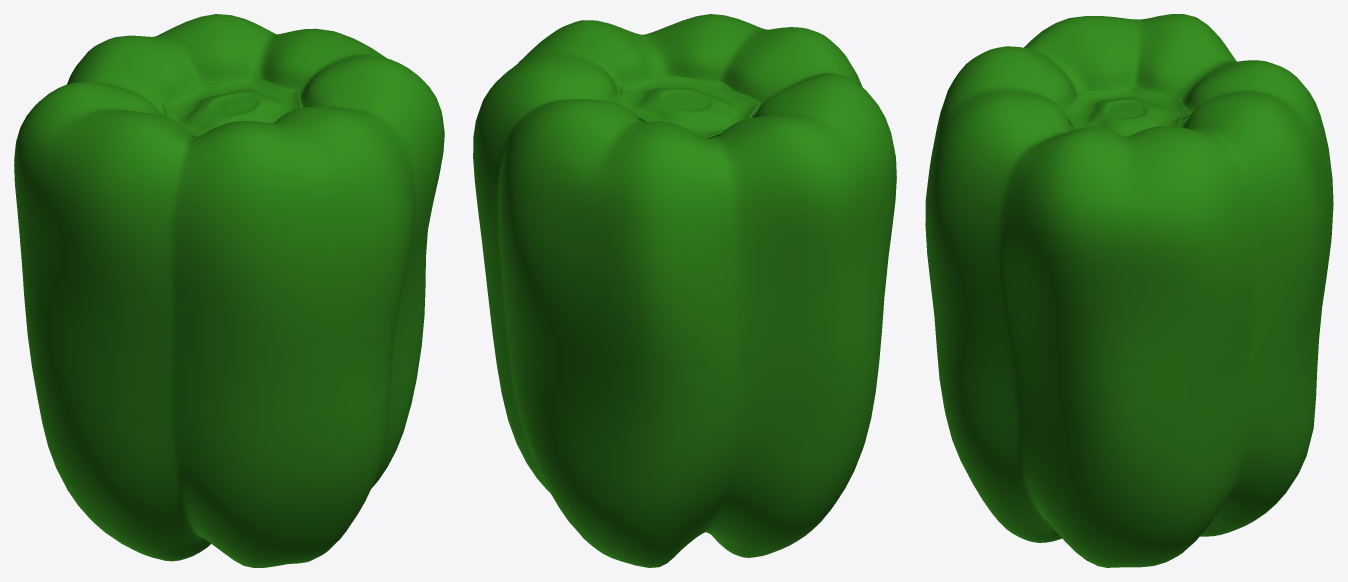
File: pepper.1.obj
3 renders of one model, left to right at view 1: azimuth 30°, elevation 25°; view 2: azimuth 150°, elevation 25°; view 3: azimuth 270°, elevation 25°, orthographic.
Size of the model in its own units: 9.51 by 11.29 by 9.08.
Materials: 1 (1 with a texture image).
